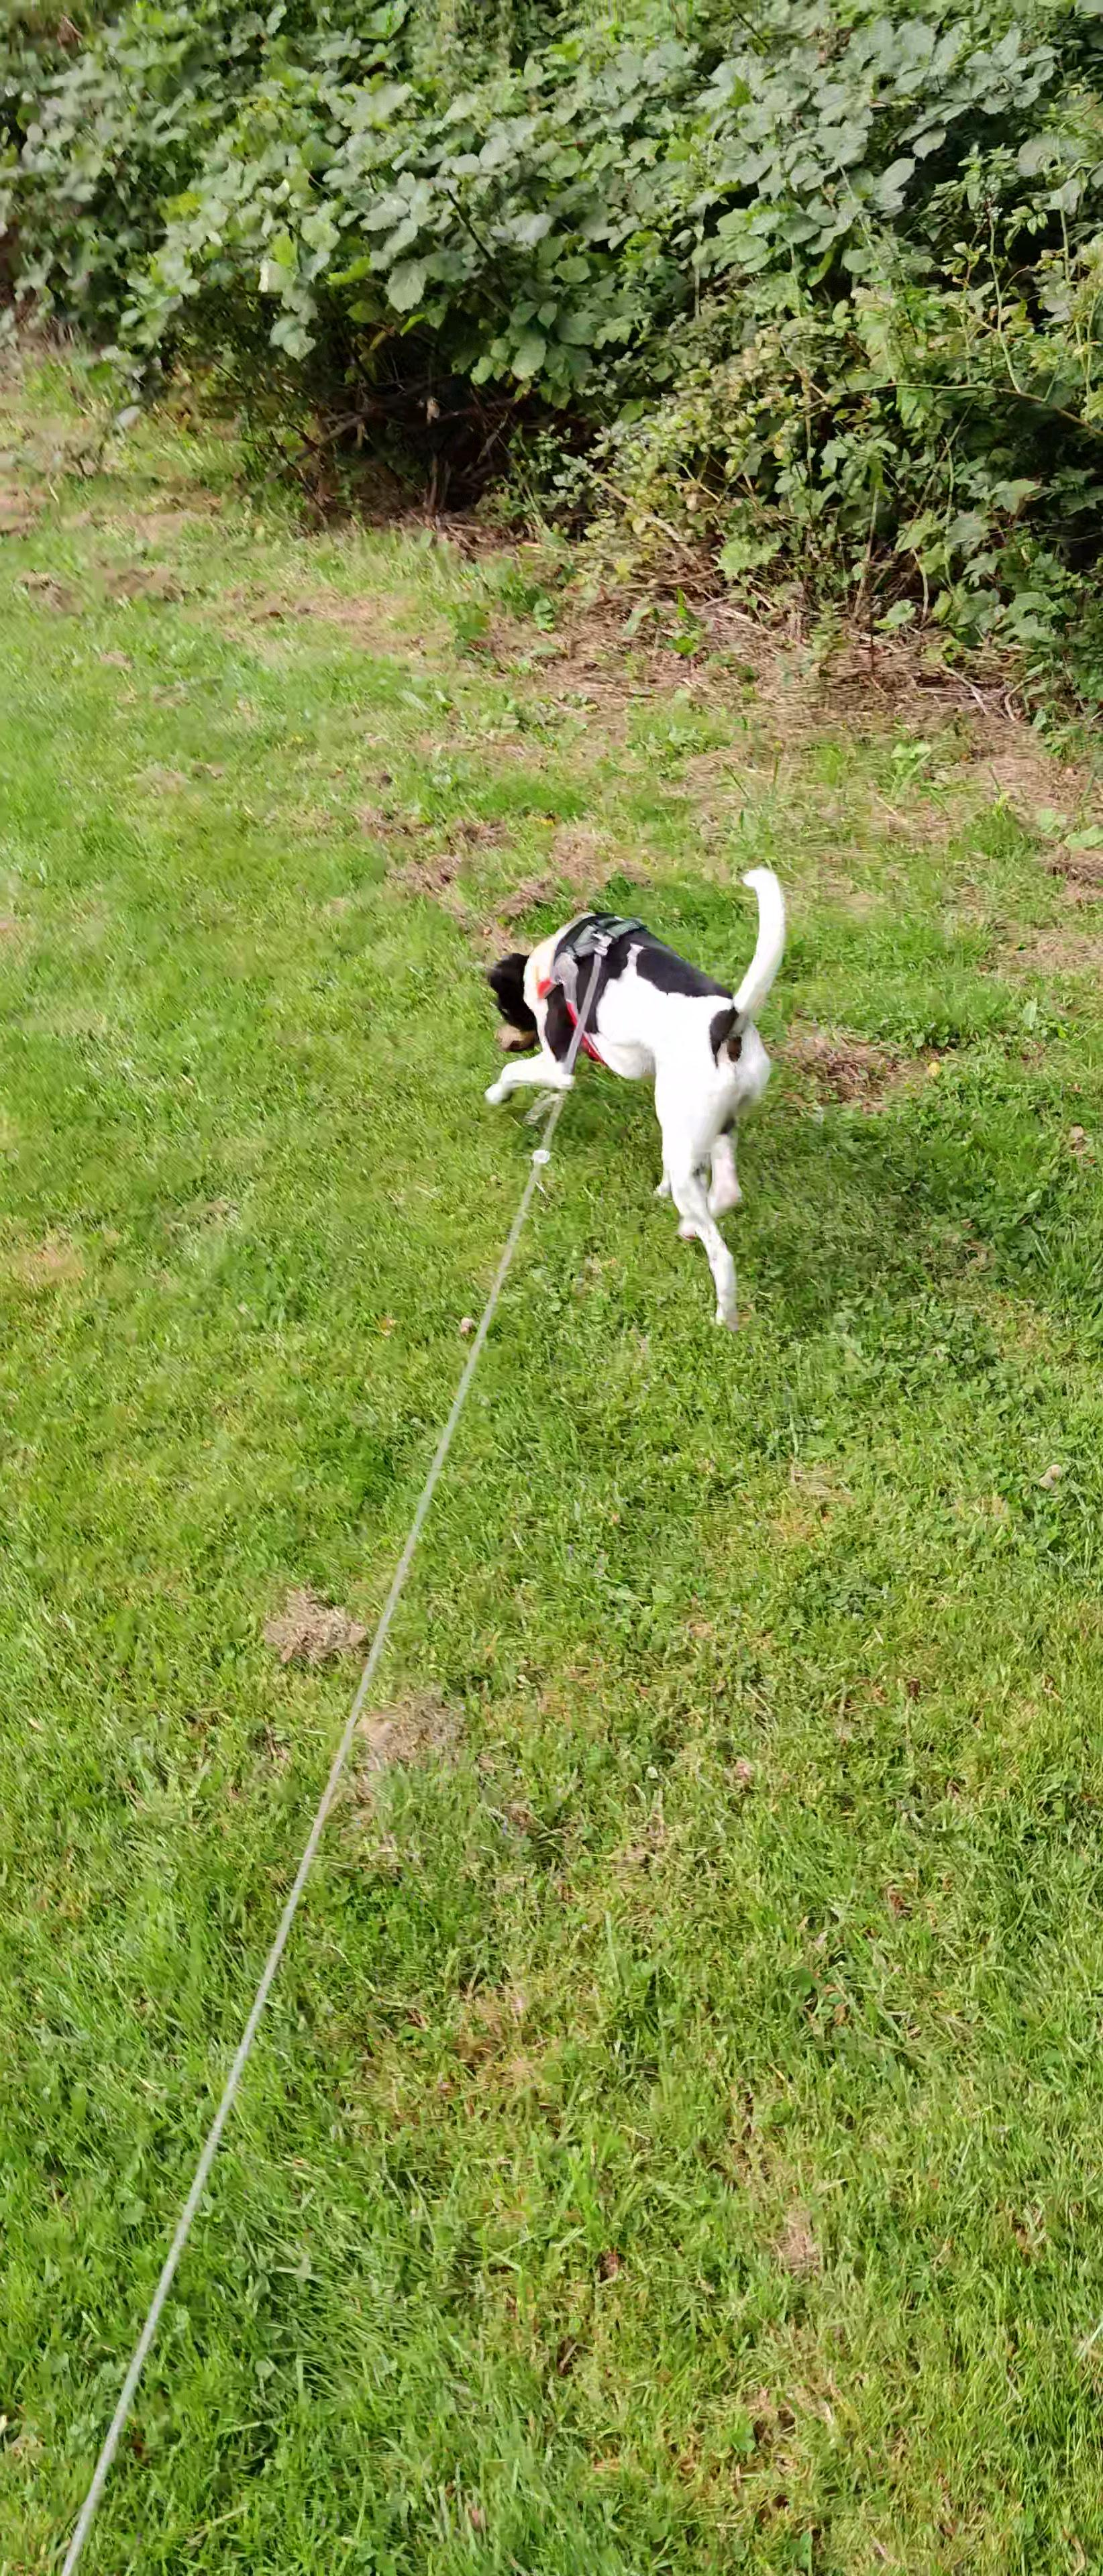Dog: (472, 859, 797, 1337)
